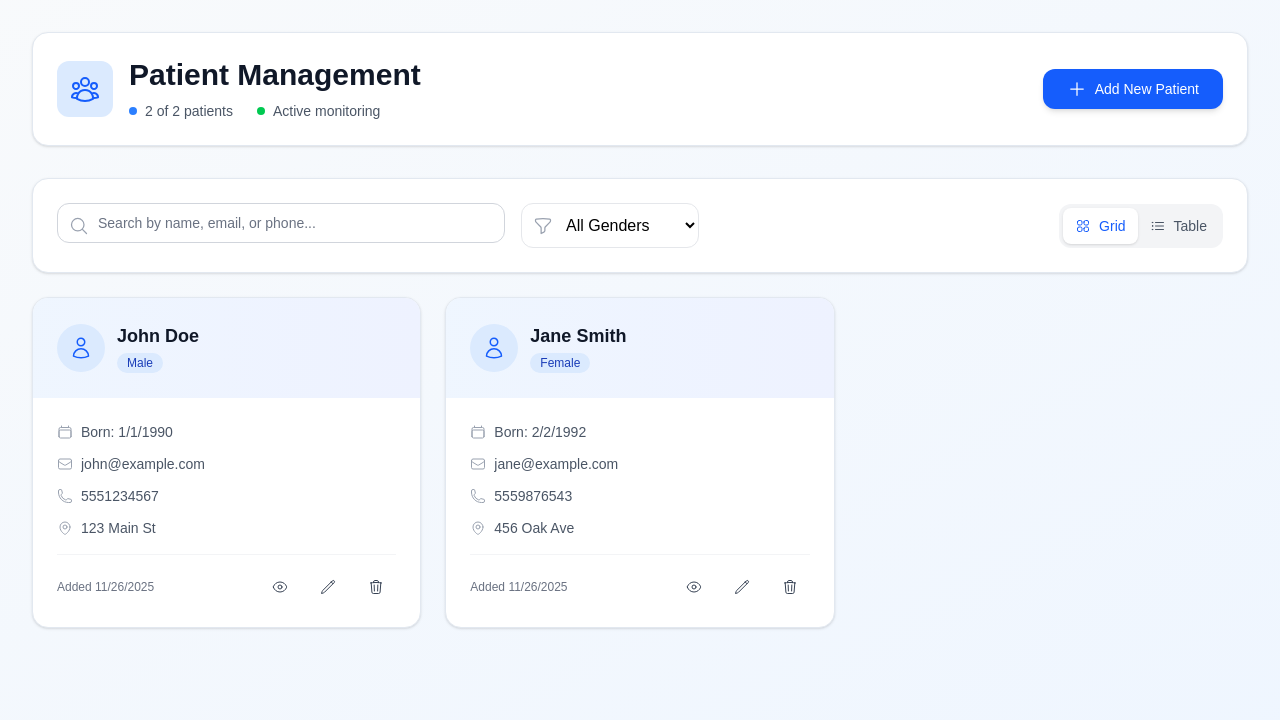
it: Patient Management - Delete Patient flow › removes the patient after confirming deletion (table view)
Check: the heading "John Doe" is shown, box x1=117 y1=322 x2=199 y2=350
Check: the heading "Jane Smith" is shown, box x1=530 y1=322 x2=626 y2=350
// The views are changed to table view
Click the button "Table" at (1178, 226), box x1=1138 y1=208 x2=1219 y2=244
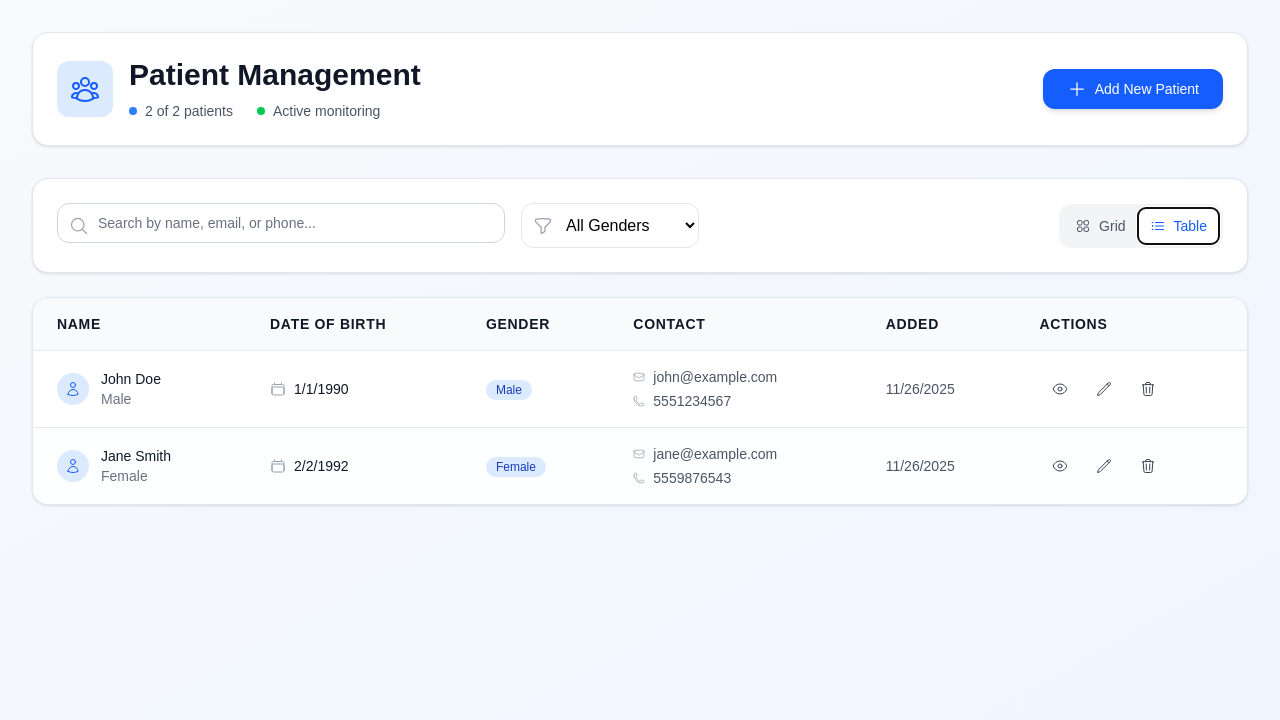
Check: the text "Jane Smith" is shown, box x1=33 y1=428 x2=1247 y2=504
// Will click on the last button that exists (view, edit, delete)
Click the 9th button at (1148, 466), box x1=1128 y1=450 x2=1168 y2=482
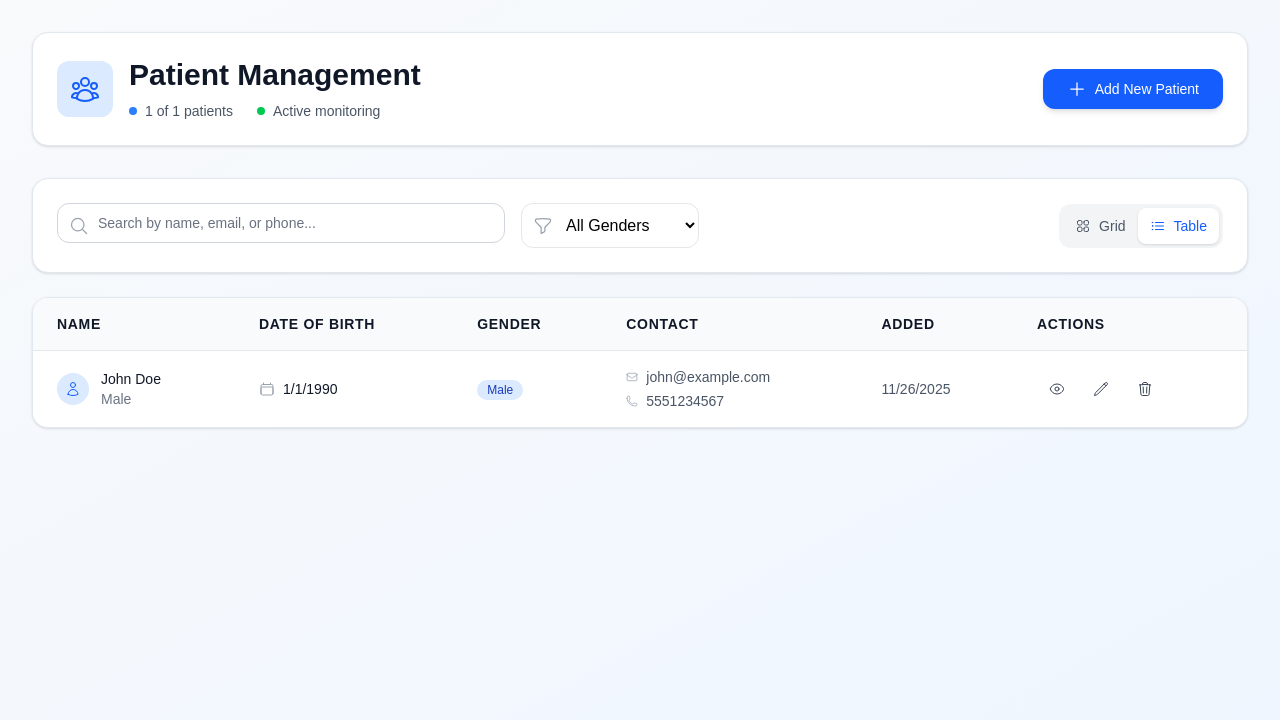
Check: the text "John Doe" is shown, box x1=101 y1=369 x2=161 y2=389
Check: the text "Jane Smith" is gone
